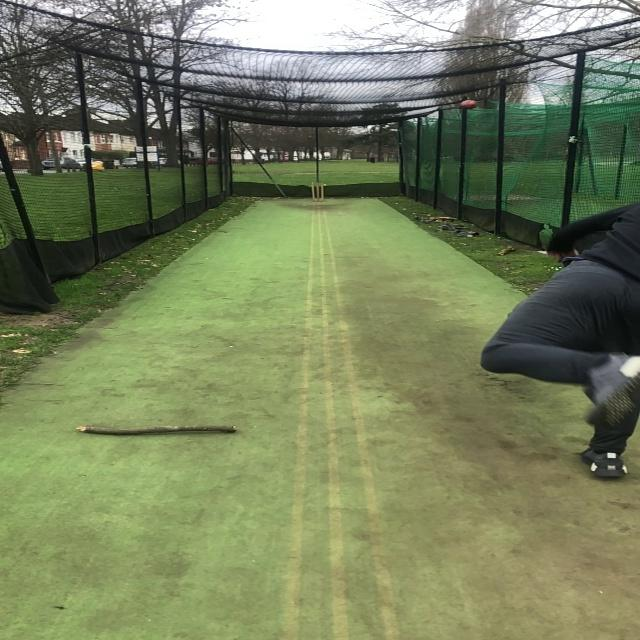ball: (459, 99, 477, 110)
